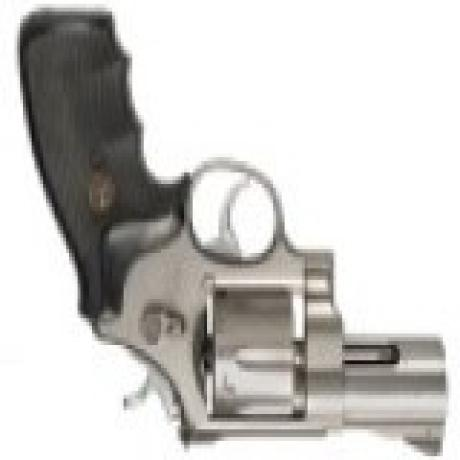weapon: (15, 14, 448, 456)
